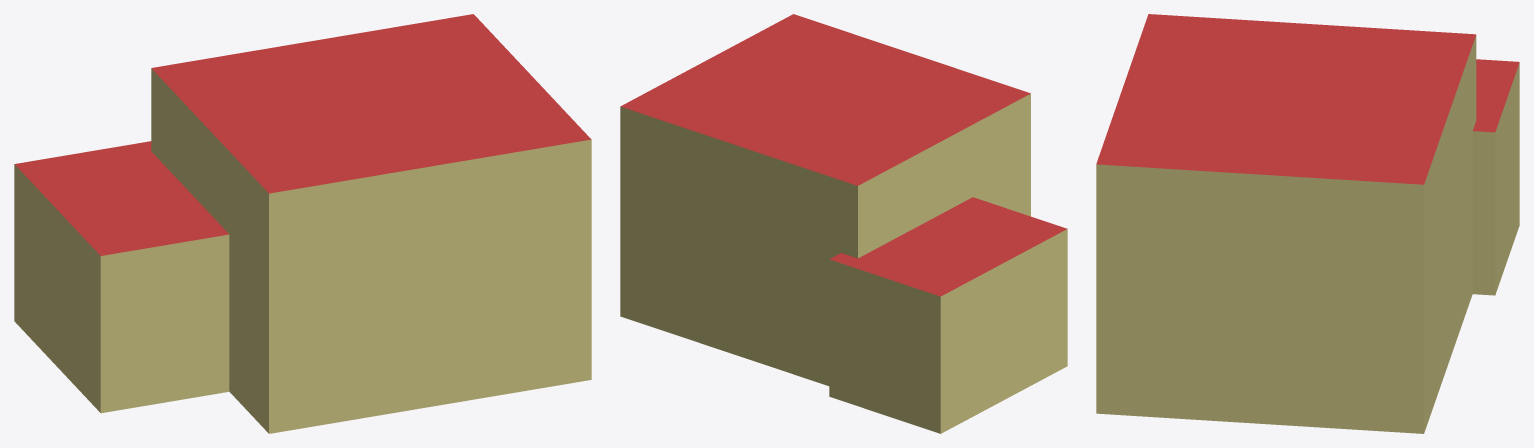
The picture shows the model from 3 angles, left to right: view 1: azimuth 30°, elevation 25°; view 2: azimuth 150°, elevation 25°; view 3: azimuth 270°, elevation 25°; orthographic projection. The views are drawn at different scales.
Bounding box in the file's own units: 16.27 × 13.01 × 8.44.
